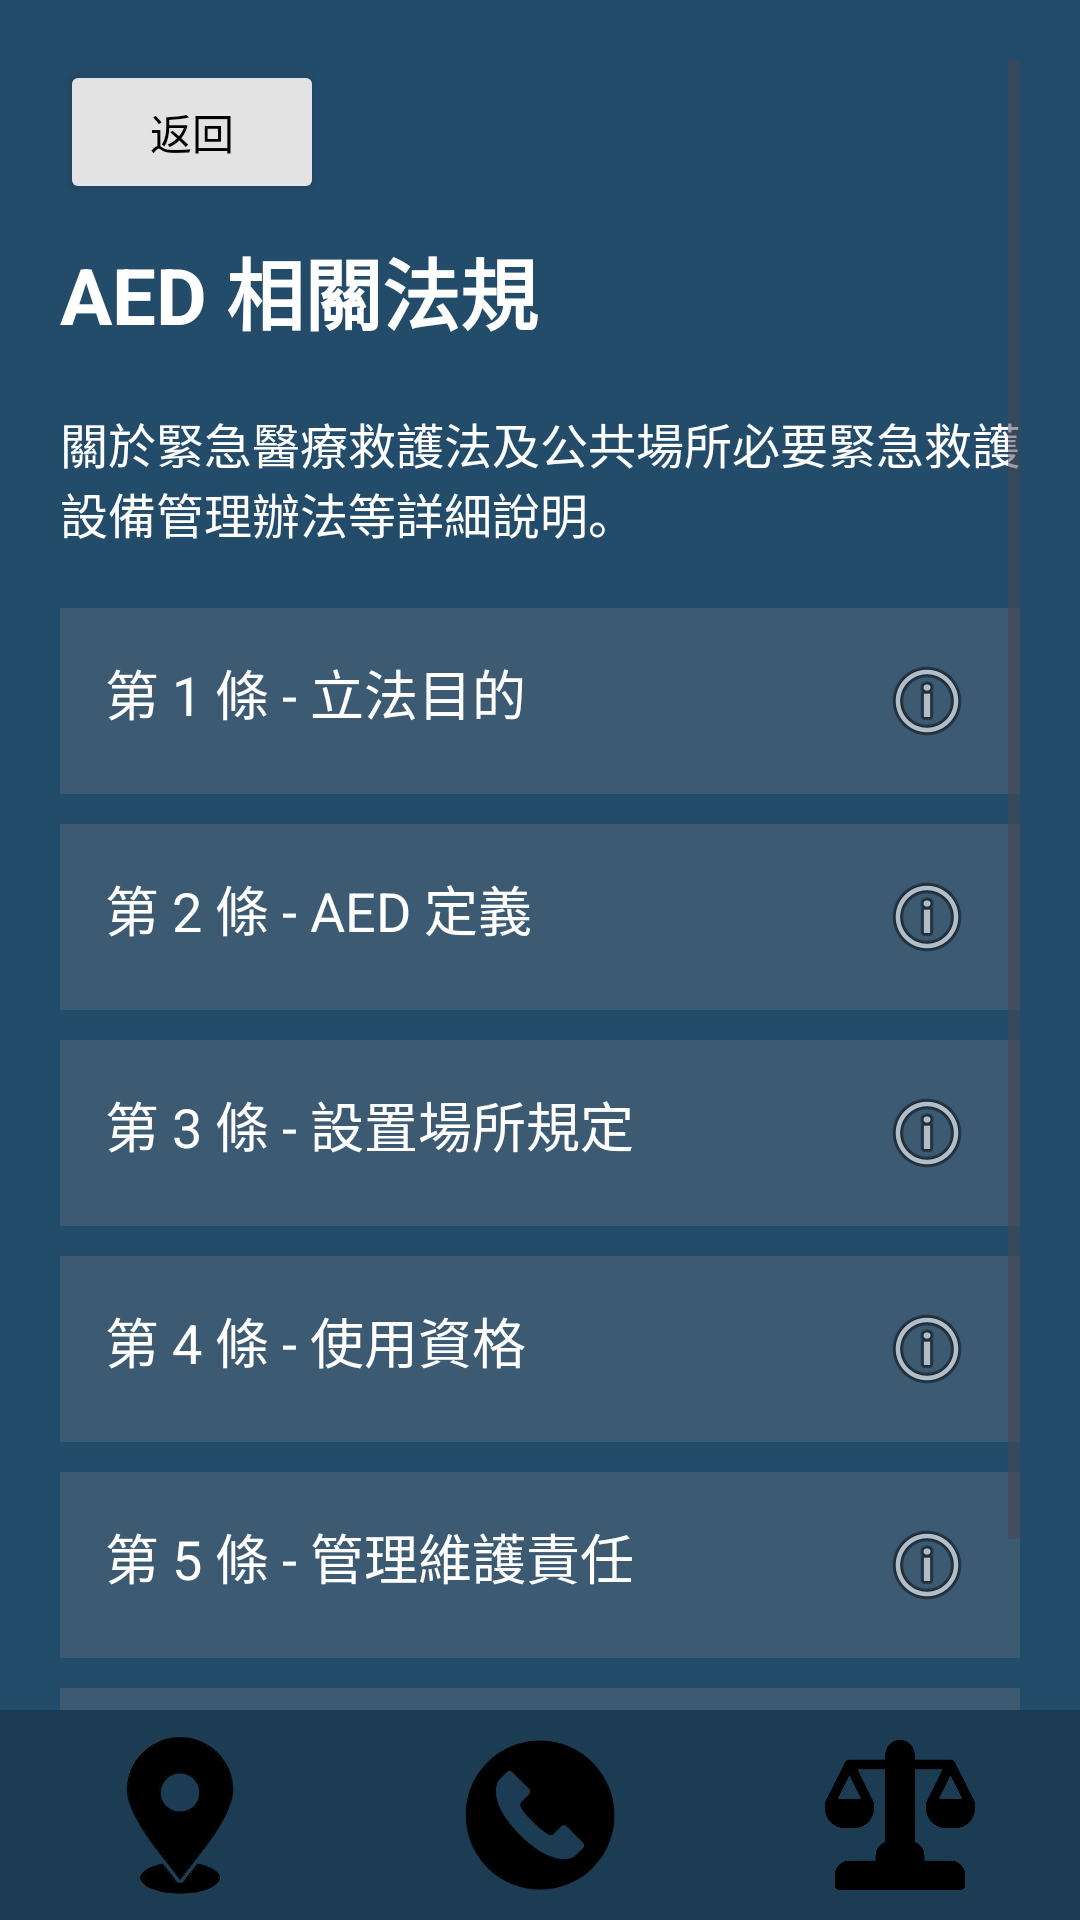

Icon bounding boxes for this 1080 x 1920 phone screenshot, format (x1, y1, x2, y2):
law: (825, 1740, 975, 1890)
location: (127, 1737, 233, 1894)
phone: (466, 1740, 615, 1890)
